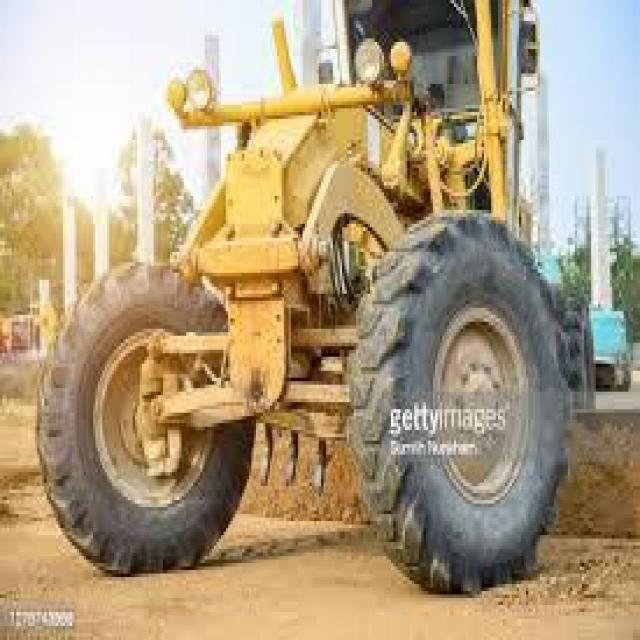Grader: (31, 7, 580, 591)
